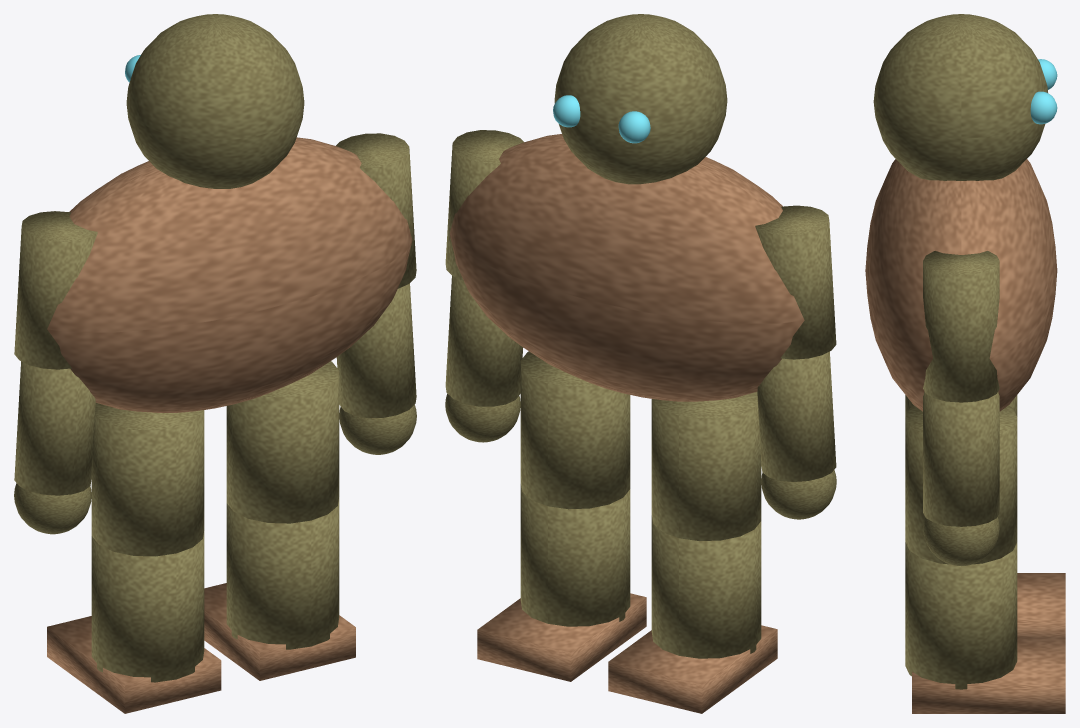
The model's file is ashen-titan.glb.
3 views of the same model, side by side, from view 1: azimuth 30°, elevation 25°; view 2: azimuth 150°, elevation 25°; view 3: azimuth 270°, elevation 25° (orthographic). The views are drawn at different scales.
Parts seen in each view (by area): view 1: Torso, Head, ThighL, ThighR, ShinR, ShinL, ForearmL, UpperArmL, ForearmR, FootL, FootR, UpperArmR (+2 smaller); view 2: Torso, Head, ThighL, ThighR, ShinL, ShinR, ForearmL, FootR, FootL, UpperArmL, ForearmR, UpperArmR (+4 smaller); view 3: Torso, Head, ShinR, UpperArmR, ForearmR, FootR, ThighR, FootL, HandR, Eye.001, Eye.
Part boxes in pixels (x1,y1,x2,y2): Torso: (47,137,412,412); Head: (126,14,304,188); ThighL: (91,403,204,556); ThighR: (226,361,339,523); ShinR: (226,497,339,649); ShinL: (91,531,204,682); ForearmL: (14,361,95,495); UpperArmL: (14,211,97,369); ForearmR: (336,283,416,418); FootL: (47,616,221,713); FootR: (204,583,355,680); UpperArmR: (336,133,416,288); Torso: (449,134,804,401); Head: (554,14,727,184); ThighL: (651,392,761,540); ThighR: (520,351,630,509); ShinL: (651,515,761,658); ShinR: (520,484,630,626); ForearmL: (757,351,836,481); FootR: (477,593,646,681); FootL: (608,625,777,713); UpperArmL: (755,205,836,359); ForearmR: (445,276,523,406); UpperArmR: (445,130,523,280); Torso: (865,159,1057,411); Head: (873,14,1047,180); ShinR: (905,542,1017,689); UpperArmR: (923,251,999,402); ForearmR: (923,392,999,526); FootR: (912,637,1065,713); ThighR: (905,405,1017,564); FootL: (1017,573,1065,637); HandR: (923,517,999,566); Eye.001: (1030,91,1057,124); Eye: (1038,59,1057,89).
Bounding box in the file's own units: 0.6367 × 1 × 0.2852.
Materials: 3 (2 with a texture image).
